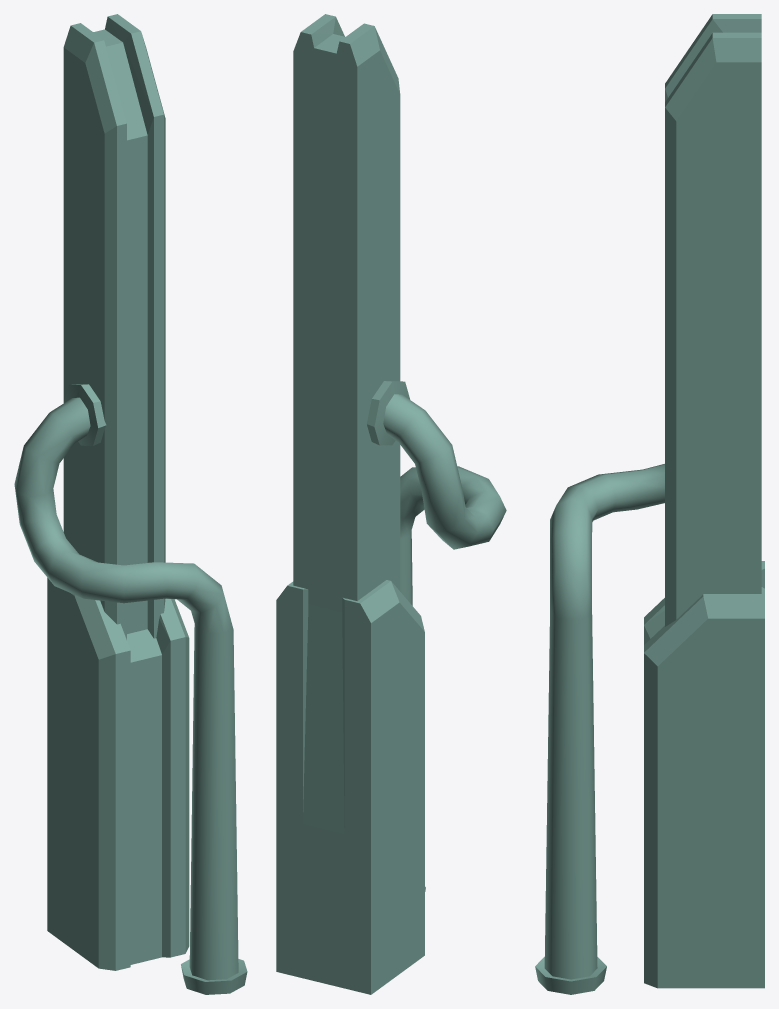
The model's file is LV_DIVIDER.fbx.
3 renders of one model, left to right at view 1: azimuth 30°, elevation 25°; view 2: azimuth 150°, elevation 25°; view 3: azimuth 270°, elevation 25°, orthographic. The views are drawn at different scales.
Visible parts, largest first — view 1: polySurface23, polySurface20; view 2: polySurface23, polySurface20; view 3: polySurface23, polySurface20.
Part boxes in pixels (x1,y1,x2,y2): polySurface23: (47, 14, 189, 970); polySurface20: (14, 384, 247, 994); polySurface23: (276, 14, 424, 994); polySurface20: (367, 381, 506, 891); polySurface23: (644, 14, 764, 988); polySurface20: (535, 464, 664, 994).
Size of the model in its own units: 50.99 by 272 by 60.22.
